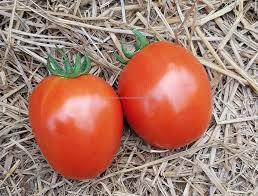tomato: (32, 67, 123, 181), (121, 39, 207, 143)
